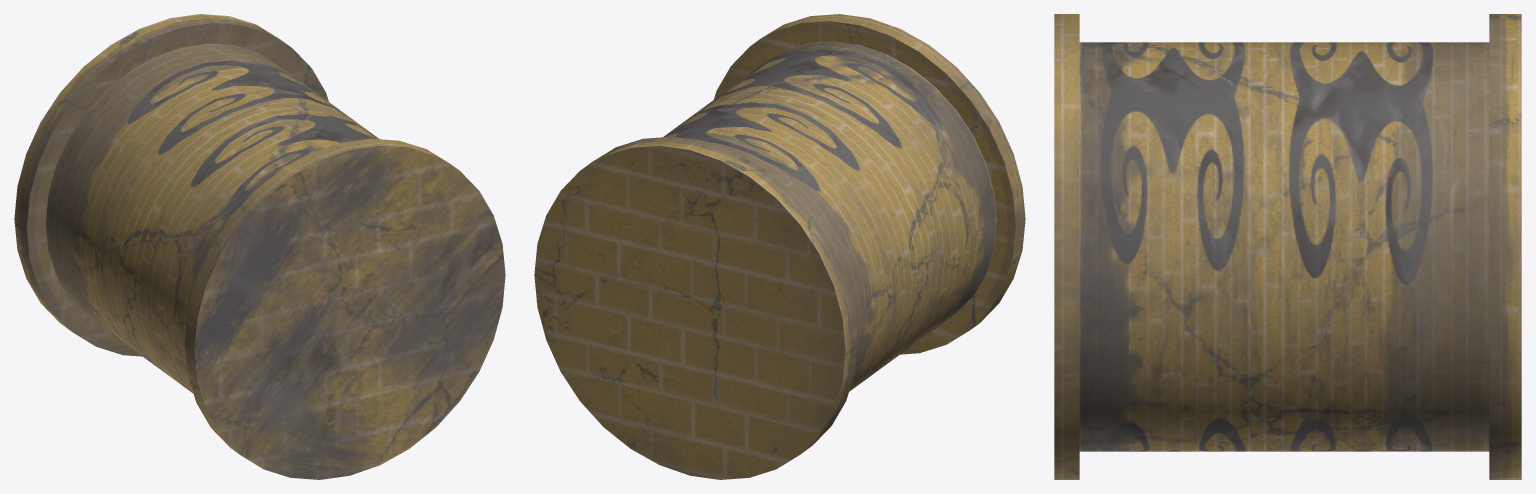
File: pillar_004.fbx
3 views of the same model, side by side, from view 1: azimuth 30°, elevation 25°; view 2: azimuth 150°, elevation 25°; view 3: azimuth 270°, elevation 25° (orthographic). The views are drawn at different scales.
Parts seen in each view (by area): view 1: pillar_004; view 2: pillar_004; view 3: pillar_004.
Part boxes in pixels (<box>): pillar_004: <box>14,14,505,479</box>; pillar_004: <box>534,14,1025,479</box>; pillar_004: <box>1054,14,1521,479</box>.
Bounding box in the file's own units: 2.28 × 2.28 × 2.28.
